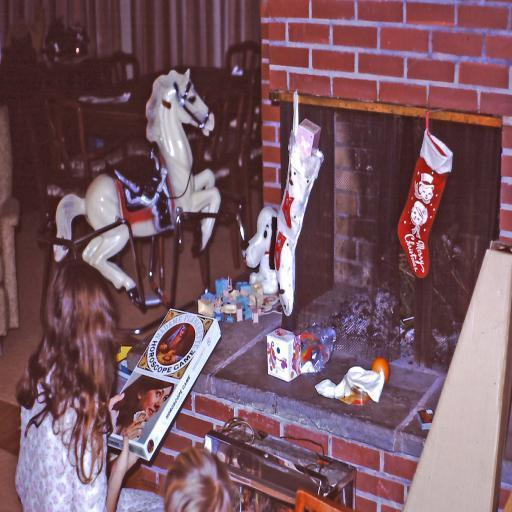horse: (53, 70, 223, 309)
